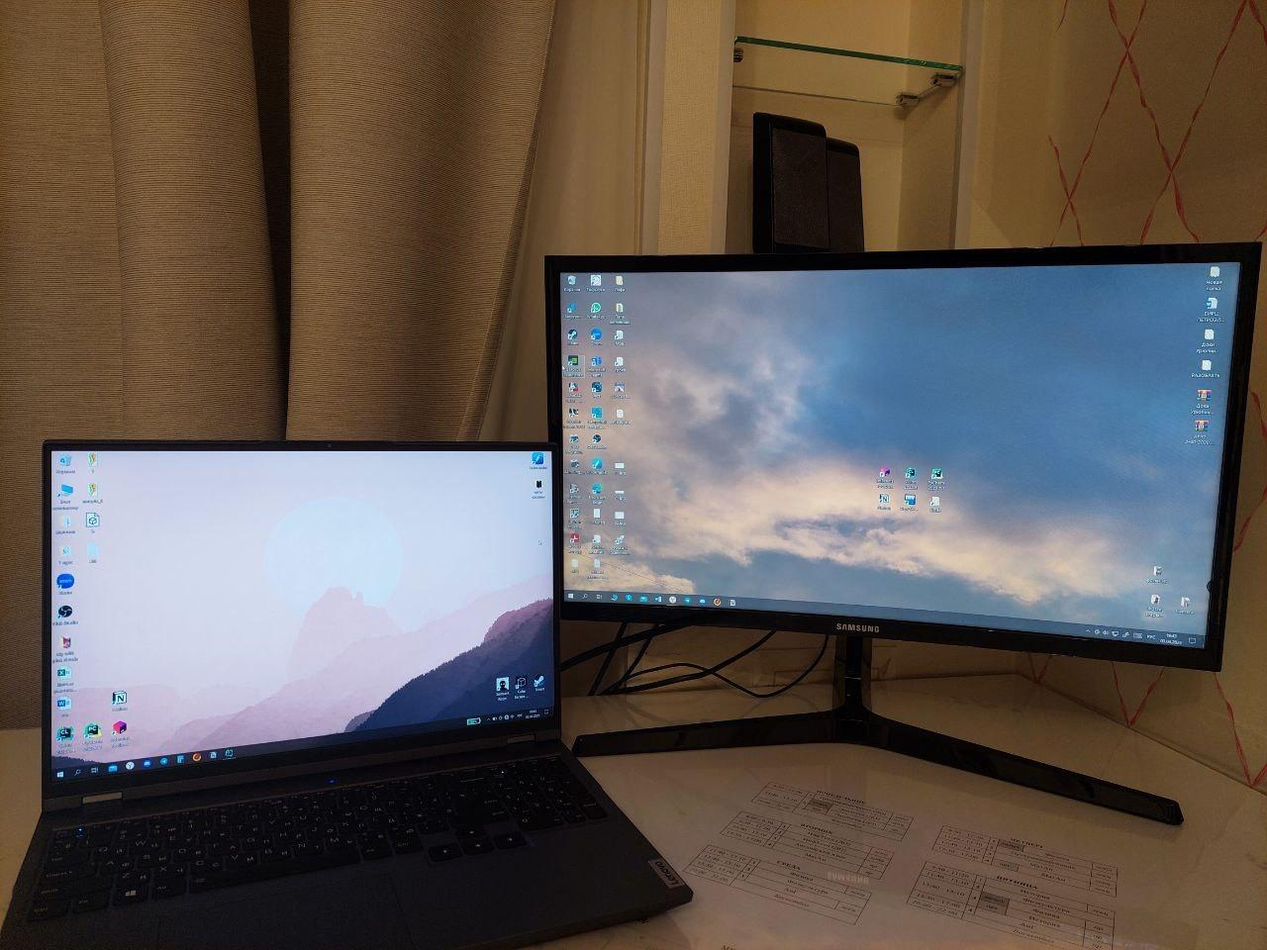monitor: (525, 237, 1267, 793), (38, 430, 582, 805)
